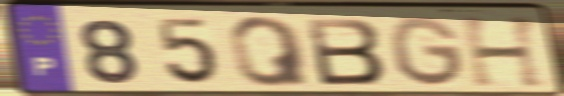5: (155, 16, 222, 87)
8: (77, 17, 143, 85)
B: (302, 16, 388, 88)
G: (386, 13, 468, 89)
H: (458, 14, 550, 90)
Q: (226, 14, 314, 89)
